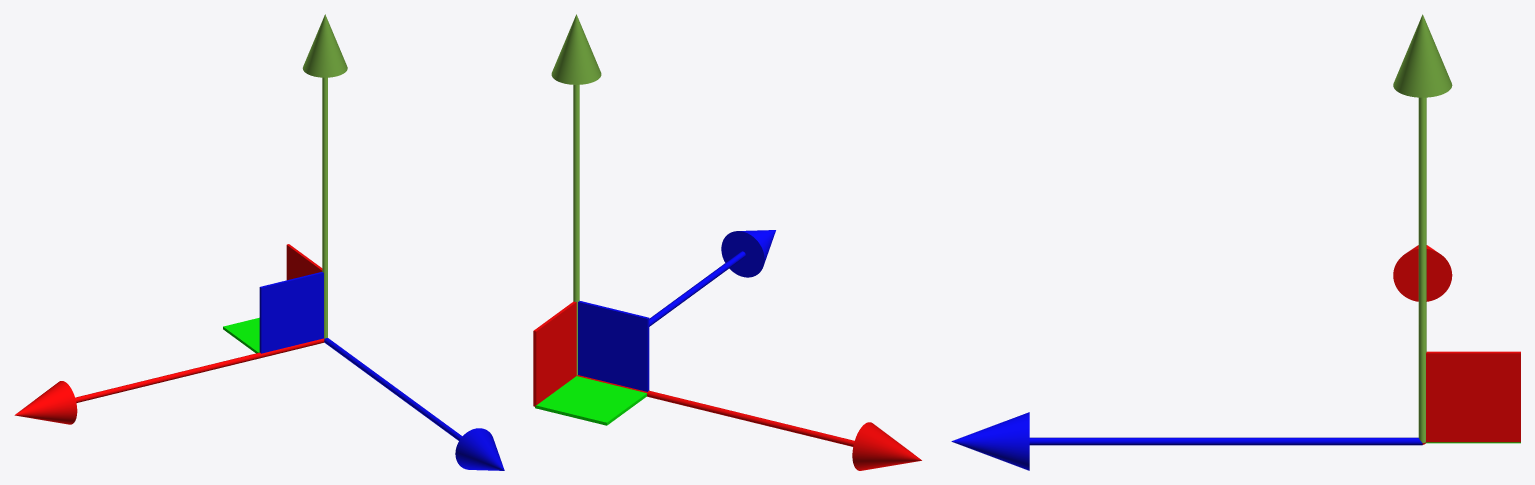
The model's file is PositionHandle.fbx.
3 renders of one model, left to right at view 1: azimuth 30°, elevation 25°; view 2: azimuth 150°, elevation 25°; view 3: azimuth 270°, elevation 25°, orthographic. The views are drawn at different scales.
Visible parts, largest first — view 1: New_Game_Object_10, New_Game_Object, New_Game_Object_5, New_Game_Object_8, New_Game_Object_4, New_Game_Object_7, New_Game_Object_12, New_Game_Object_14; view 2: New_Game_Object_10, New_Game_Object, New_Game_Object_12, New_Game_Object_14, New_Game_Object_5, New_Game_Object_8, New_Game_Object_4, New_Game_Object_7; view 3: New_Game_Object_12, New_Game_Object_7, New_Game_Object_4, New_Game_Object_5, New_Game_Object_8, New_Game_Object.
Boxes of the visible parts, left/top/right/bottom form: New_Game_Object_10: left=259, top=272, right=323, bottom=353; New_Game_Object: left=14, top=338, right=324, bottom=424; New_Game_Object_5: left=302, top=14, right=347, bottom=77; New_Game_Object_8: left=455, top=428, right=504, bottom=470; New_Game_Object_4: left=322, top=77, right=327, bottom=338; New_Game_Object_7: left=324, top=338, right=462, bottom=440; New_Game_Object_12: left=286, top=244, right=322, bottom=280; New_Game_Object_14: left=223, top=317, right=259, bottom=353; New_Game_Object_10: left=578, top=301, right=649, bottom=391; New_Game_Object: left=577, top=375, right=921, bottom=470; New_Game_Object_12: left=533, top=301, right=576, bottom=406; New_Game_Object_14: left=535, top=376, right=646, bottom=425; New_Game_Object_5: left=551, top=14, right=601, bottom=84; New_Game_Object_8: left=721, top=230, right=775, bottom=277; New_Game_Object_4: left=573, top=85, right=579, bottom=375; New_Game_Object_7: left=649, top=251, right=745, bottom=326; New_Game_Object_12: left=1426, top=351, right=1520, bottom=442; New_Game_Object_7: left=1029, top=437, right=1422, bottom=445; New_Game_Object_4: left=1418, top=97, right=1426, bottom=442; New_Game_Object_5: left=1393, top=14, right=1452, bottom=97; New_Game_Object_8: left=951, top=412, right=1029, bottom=470; New_Game_Object: left=1393, top=245, right=1452, bottom=444.
Size of the model in its own units: 19.12 by 19.12 by 21.75.
